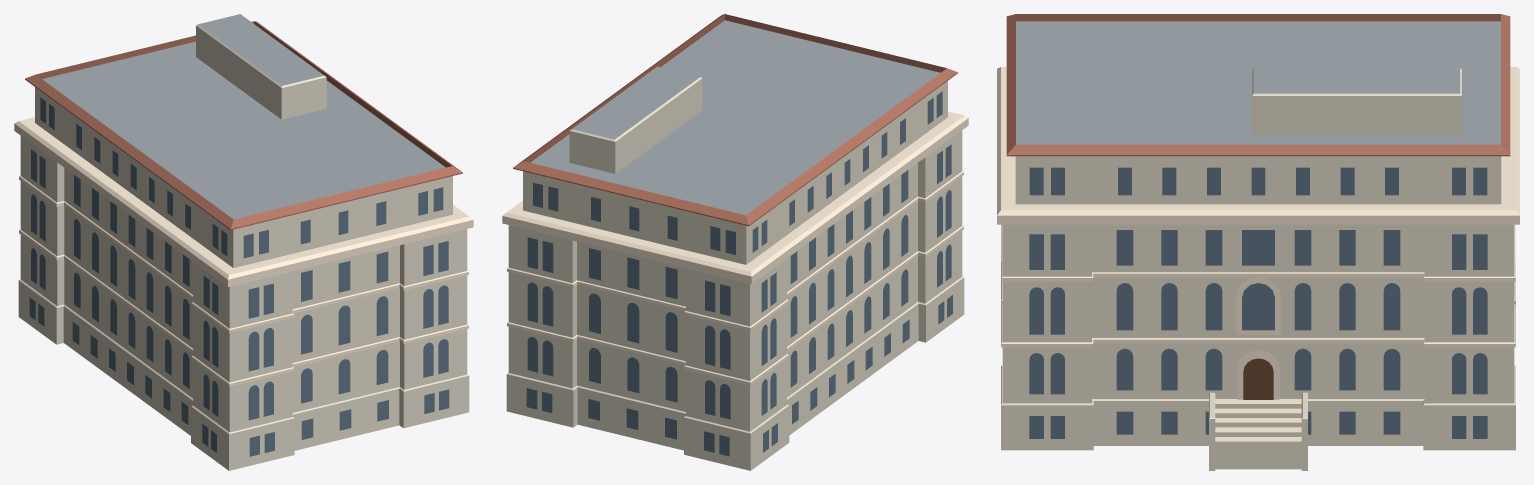
File: sat-city-hall.glb
3 renders of one model, left to right at view 1: azimuth 30°, elevation 25°; view 2: azimuth 150°, elevation 25°; view 3: azimuth 270°, elevation 25°, orthographic. The views are drawn at different scales.
Parts seen in each view (by area): view 1: San Antonio City Hall; view 2: San Antonio City Hall; view 3: San Antonio City Hall.
Part boxes in pixels (x1,y1,x2,y2): San Antonio City Hall: [14, 14, 473, 470]; San Antonio City Hall: [502, 14, 968, 470]; San Antonio City Hall: [997, 14, 1519, 470].
Bounding box in the file's own units: 30.85 × 28.8 × 41.1.
